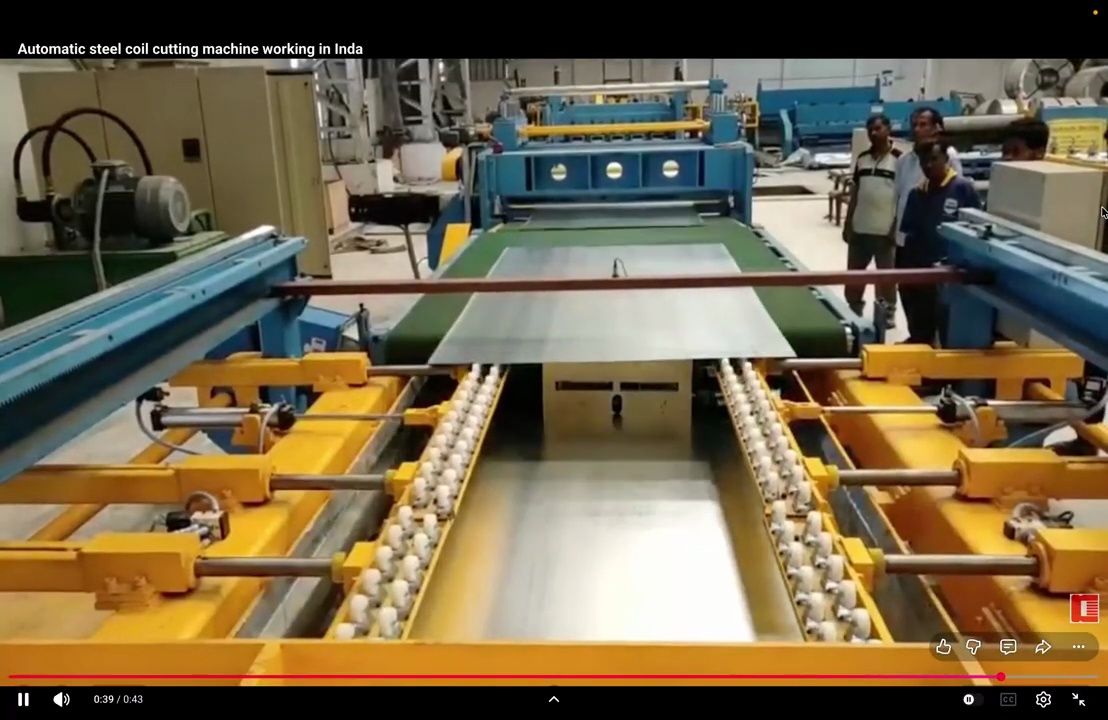steel plate: (429, 288, 794, 364), (513, 207, 702, 230)
